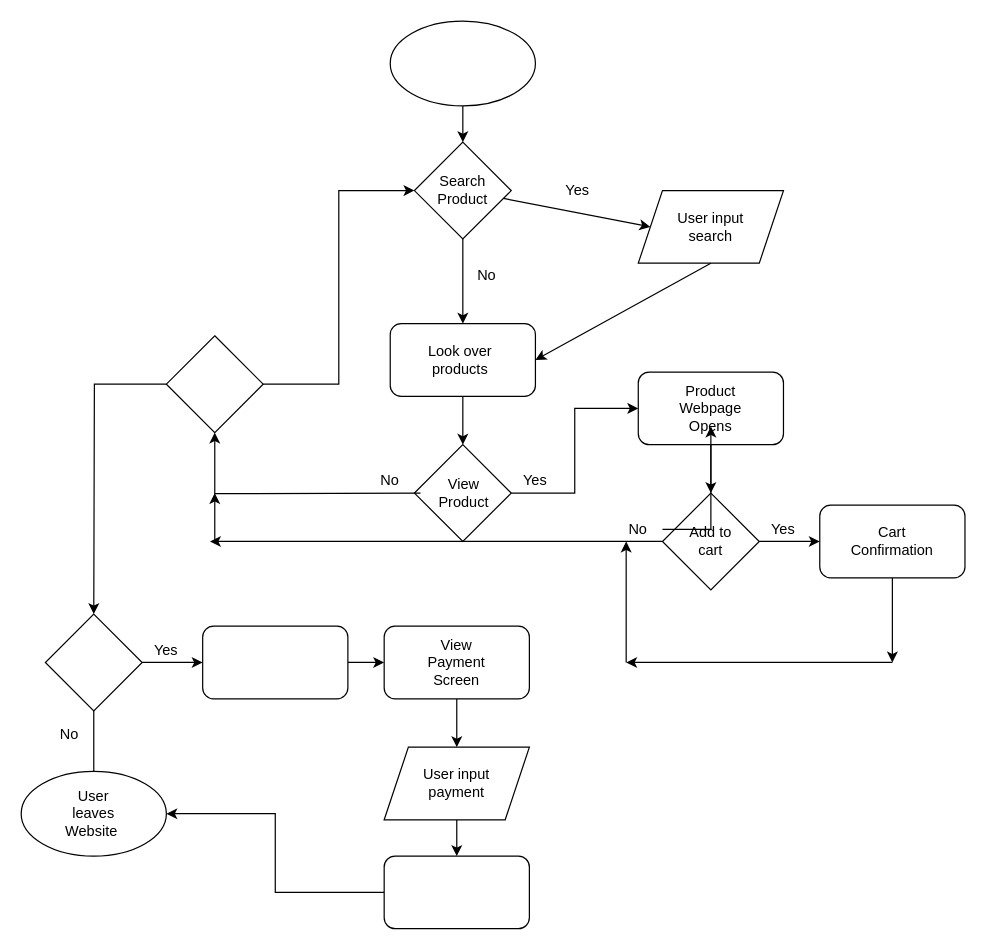
The diagram is 986 pixels wide and 950 high, and some of its shapes have lost their labels. Each missing label, with the centre of its shape:
"Checkout" belongs at point (93, 662).
"Continue Shopping" belongs at point (214, 384).
"Order and email confirmation" belongs at point (456, 892).
"User enters Website" belongs at point (462, 63).
"View Cart Screen" belongs at point (274, 662).
